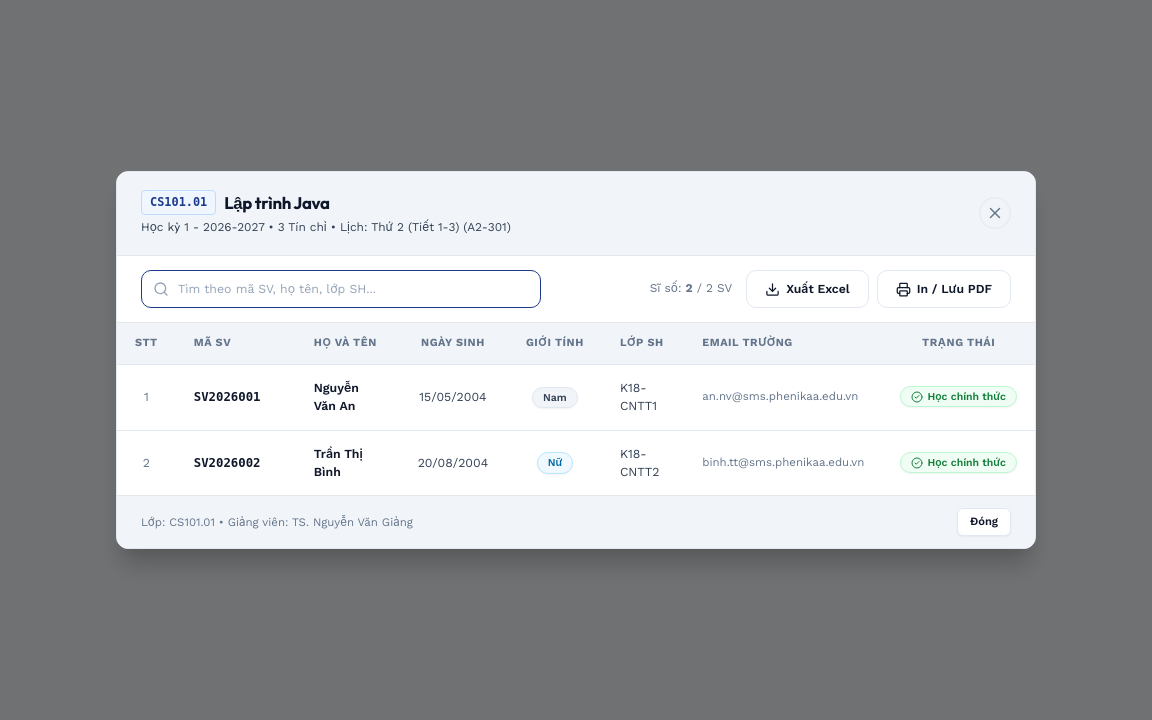
it: SectionStudentsModal Component › filters students based on search input
This screenshot has width=1152, height=720.
Expected: the text "Nguyễn Văn An" is shown, [296, 364, 398, 430]
Type "Bình" into the field with placeholder "Tìm theo mã SV, họ tên, lớp SH..." at (341, 289), box [141, 270, 541, 308]
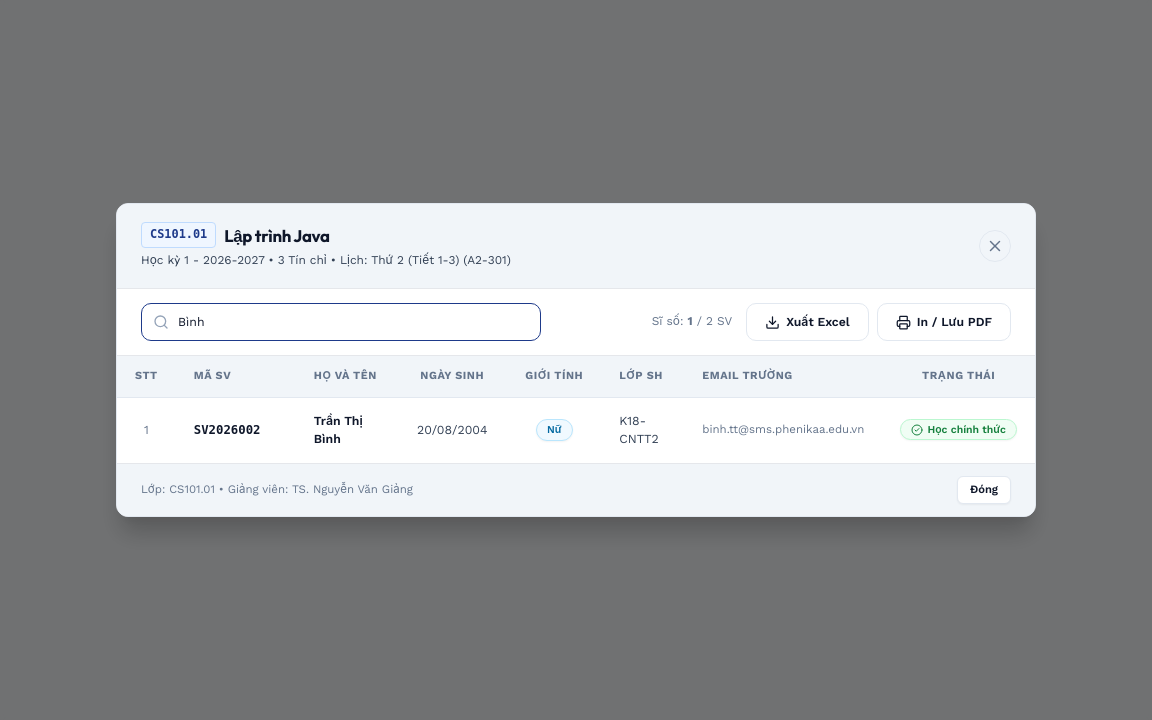
Expected: the text "Trần Thị Bình" is shown, [296, 397, 397, 462]
Now the text "Nguyễn Văn An" is gone
